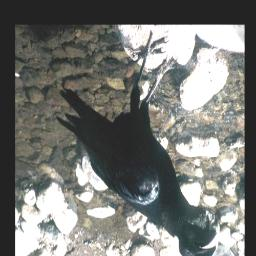Crow: (56, 31, 221, 256)
